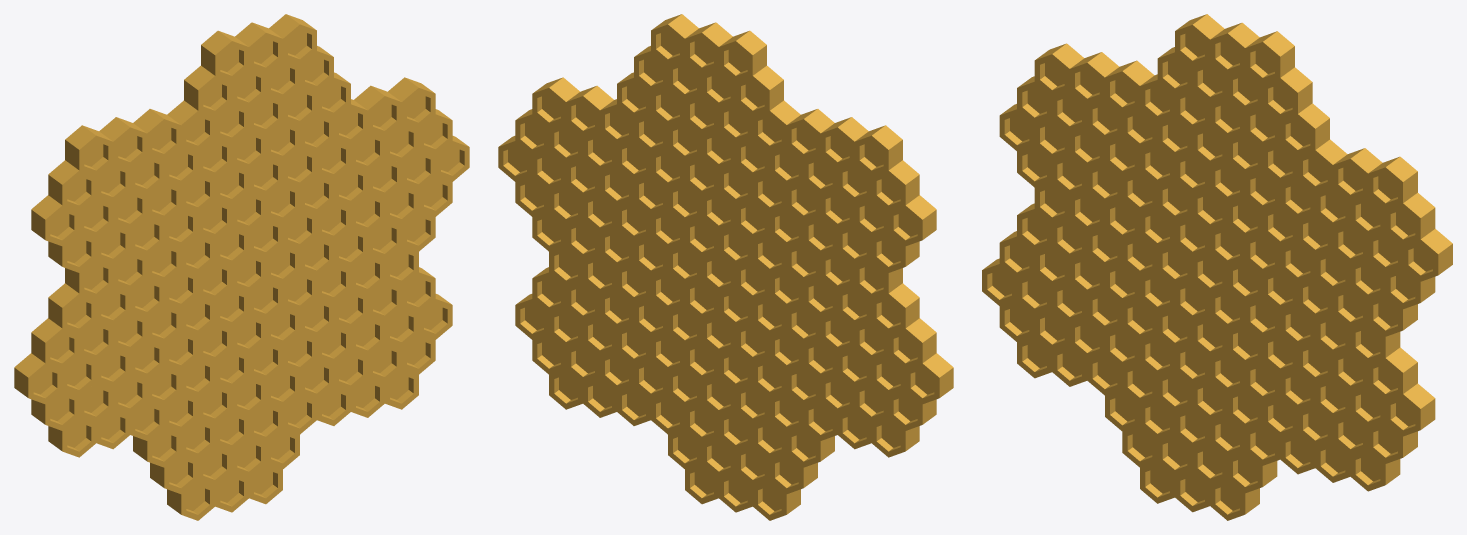
File: alveare_5_version2.fbx
The picture shows the model from 3 angles, left to right: view 1: azimuth 30°, elevation 25°; view 2: azimuth 150°, elevation 25°; view 3: azimuth 330°, elevation 25°; orthographic projection. The views are drawn at different scales.
Visible parts, largest first — view 1: Cylinder.029; view 2: Cylinder.029; view 3: Cylinder.029.
Boxes of the visible parts, box(x1,y1,x2,y2) form: Cylinder.029: box(14, 14, 469, 520); Cylinder.029: box(498, 14, 953, 520); Cylinder.029: box(982, 14, 1452, 520).
Size of the model in its own units: 3930 by 4014 by 219.
